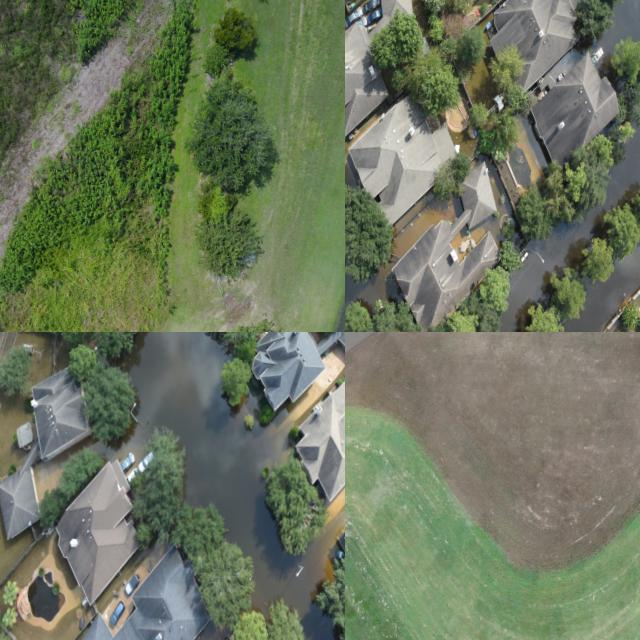fire: (126, 332, 330, 533), (501, 254, 545, 332), (345, 265, 395, 306)
